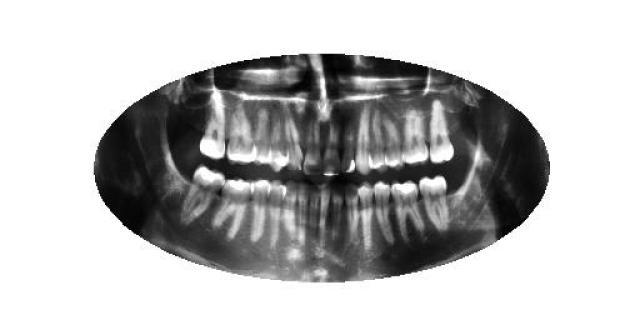Fillings: (182, 164, 228, 228), (212, 176, 254, 242), (392, 180, 428, 245)
